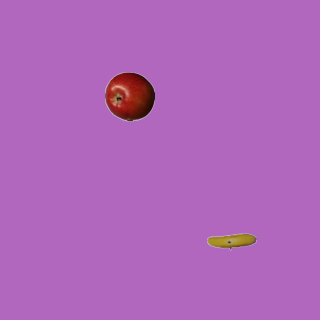Apple Braeburn: (104, 71, 154, 121)
Banana: (206, 216, 256, 266)
